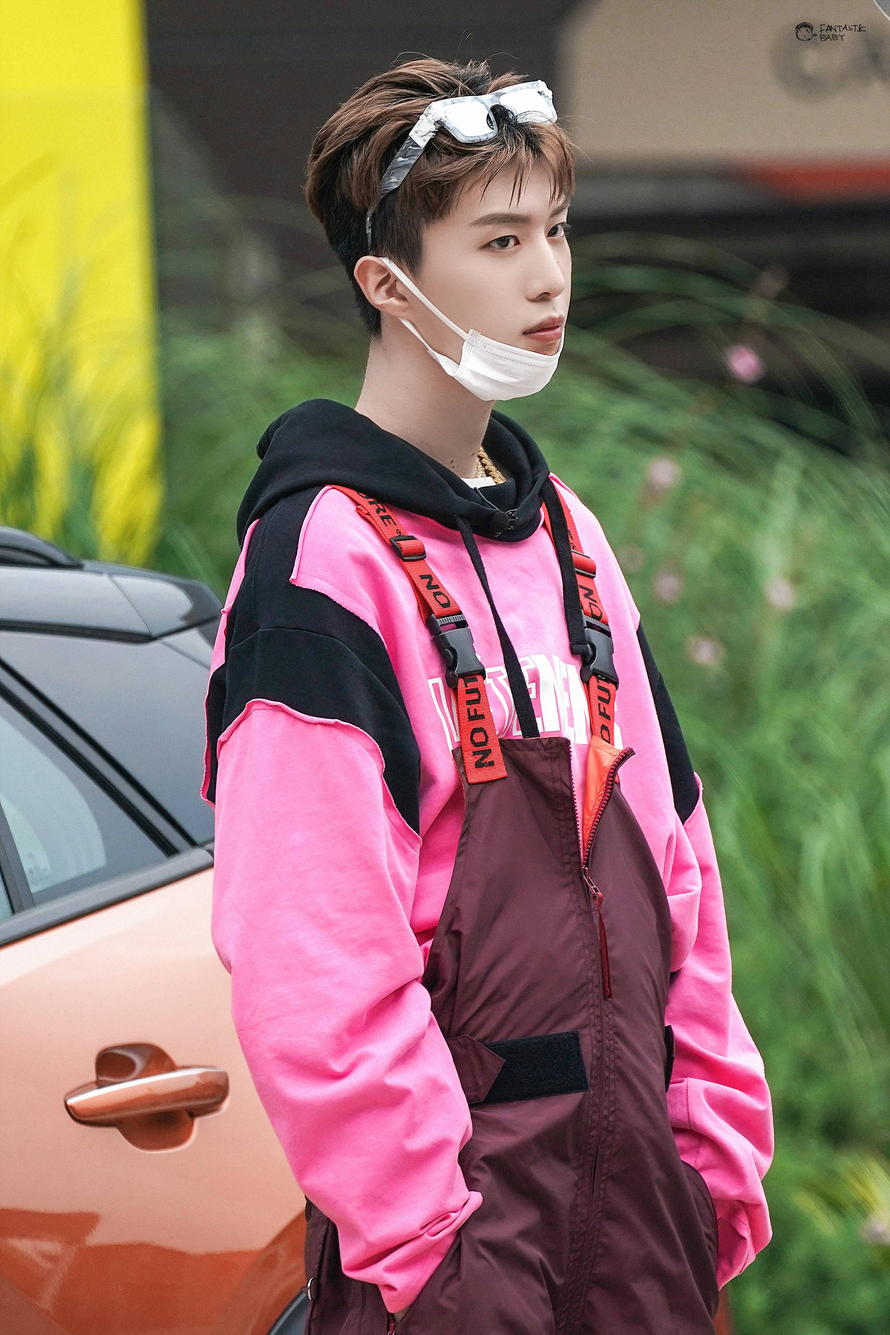WRONG: (417, 177, 570, 393)
